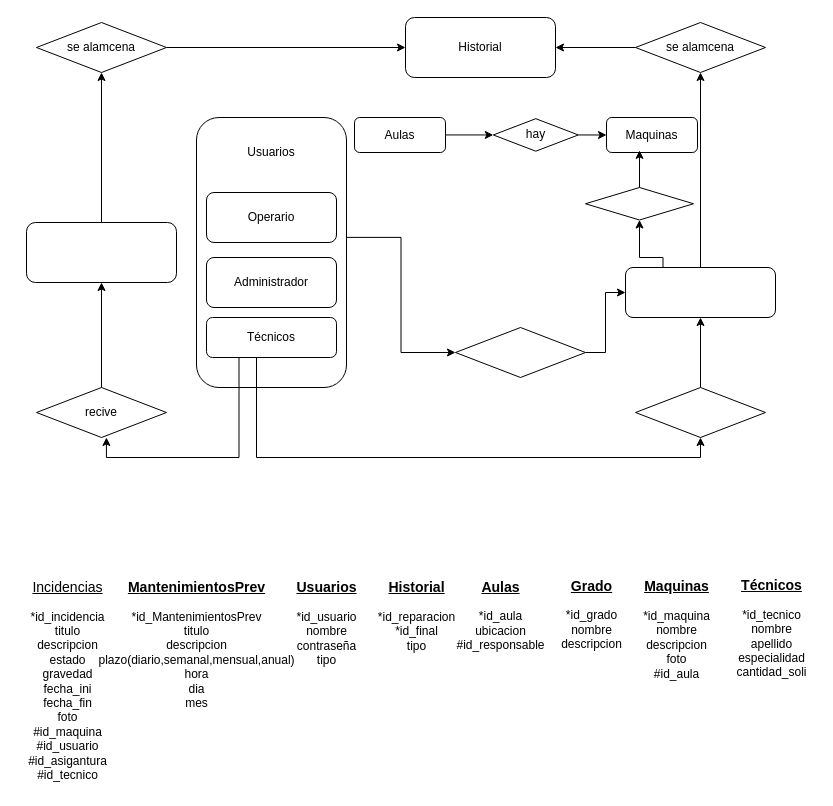
The diagram is 833 pixels wide and 806 high, and some of its shapes have lost their labels. Each missing label, with the centre of its shape:
"crea" belongs at pixel 520 352.
"I ncidencias" belongs at pixel 700 292.
"M antenimientosPrev" belongs at pixel 101 252.
"Resuelven" belongs at pixel 700 412.
"se identifica" belongs at pixel 639 203.
